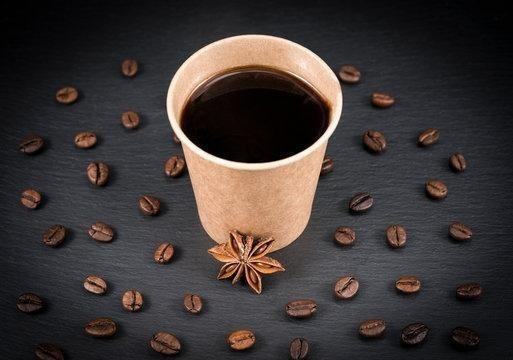cup-disposable: (164, 31, 345, 257)
